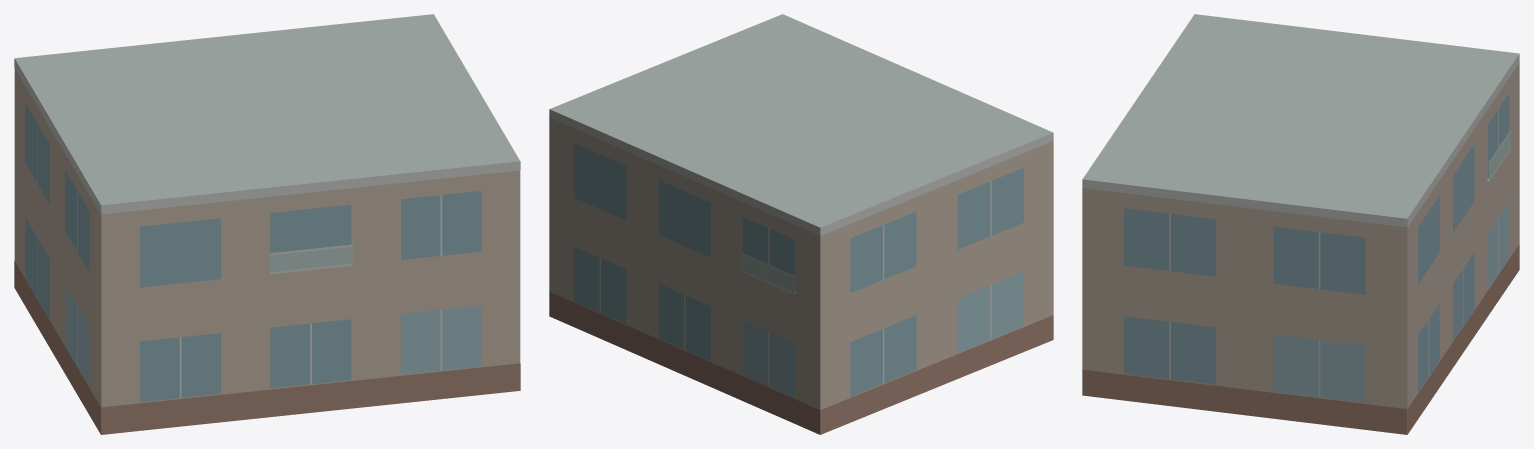
Rendered from residential-695db485-628e-455d-90d0-b7a56b7a6b6f.glb.
3 views of the same model, side by side, from view 1: azimuth 30°, elevation 25°; view 2: azimuth 150°, elevation 25°; view 3: azimuth 270°, elevation 25° (orthographic). The views are drawn at different scales.
Parts seen in each view (by area): view 1: residential-695db485-628e-455d-90d0-b7a56b7a6b6f.tmp; view 2: residential-695db485-628e-455d-90d0-b7a56b7a6b6f.tmp; view 3: residential-695db485-628e-455d-90d0-b7a56b7a6b6f.tmp.
Boxes of the visible parts, x1,y1,x2,y2 form: residential-695db485-628e-455d-90d0-b7a56b7a6b6f.tmp: [14, 14, 520, 434]; residential-695db485-628e-455d-90d0-b7a56b7a6b6f.tmp: [549, 14, 1053, 434]; residential-695db485-628e-455d-90d0-b7a56b7a6b6f.tmp: [1082, 14, 1519, 434].
Size of the model in its own units: 12.41 by 6.1 by 11.2.
